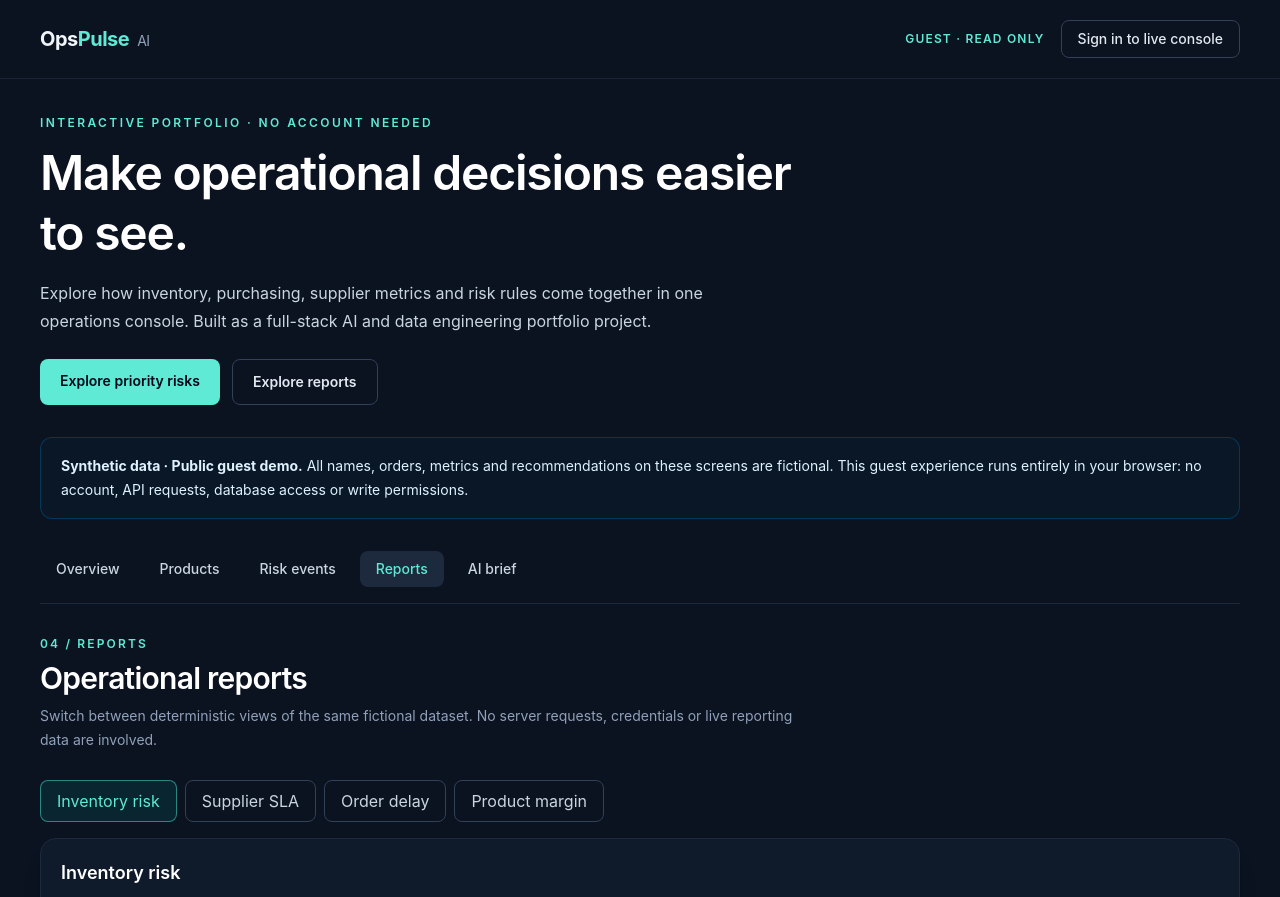
Test: public portfolio demo › switches across four independent synthetic report views
Expected: the heading "Inventory risk" is shown, [61, 862, 180, 883]
Click the tab "Supplier SLA": (250, 801) [185, 780, 316, 822]
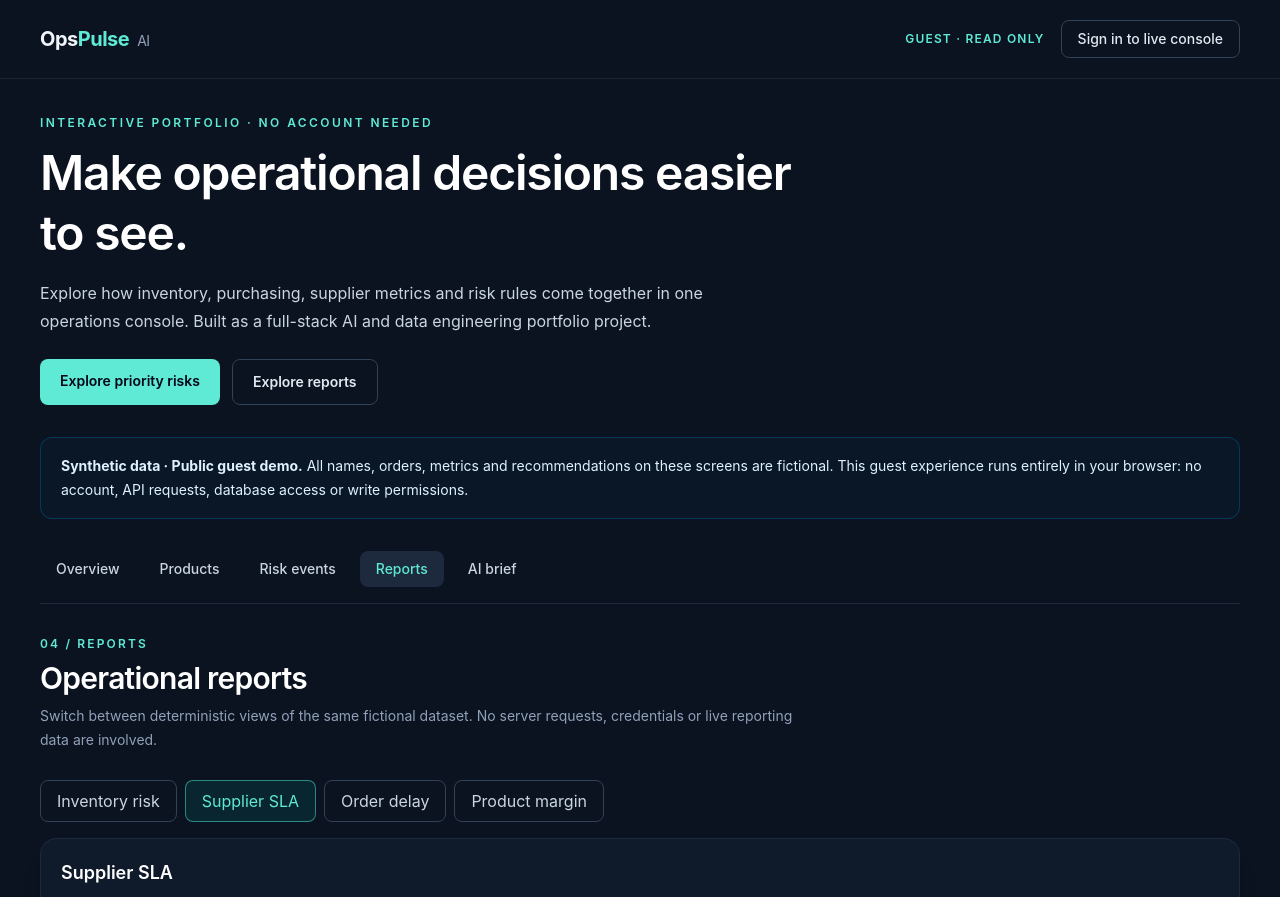
Result: the heading "Supplier SLA" is shown at [61, 862, 173, 883]
Click the tab "Order delay": (385, 801) [324, 780, 446, 822]
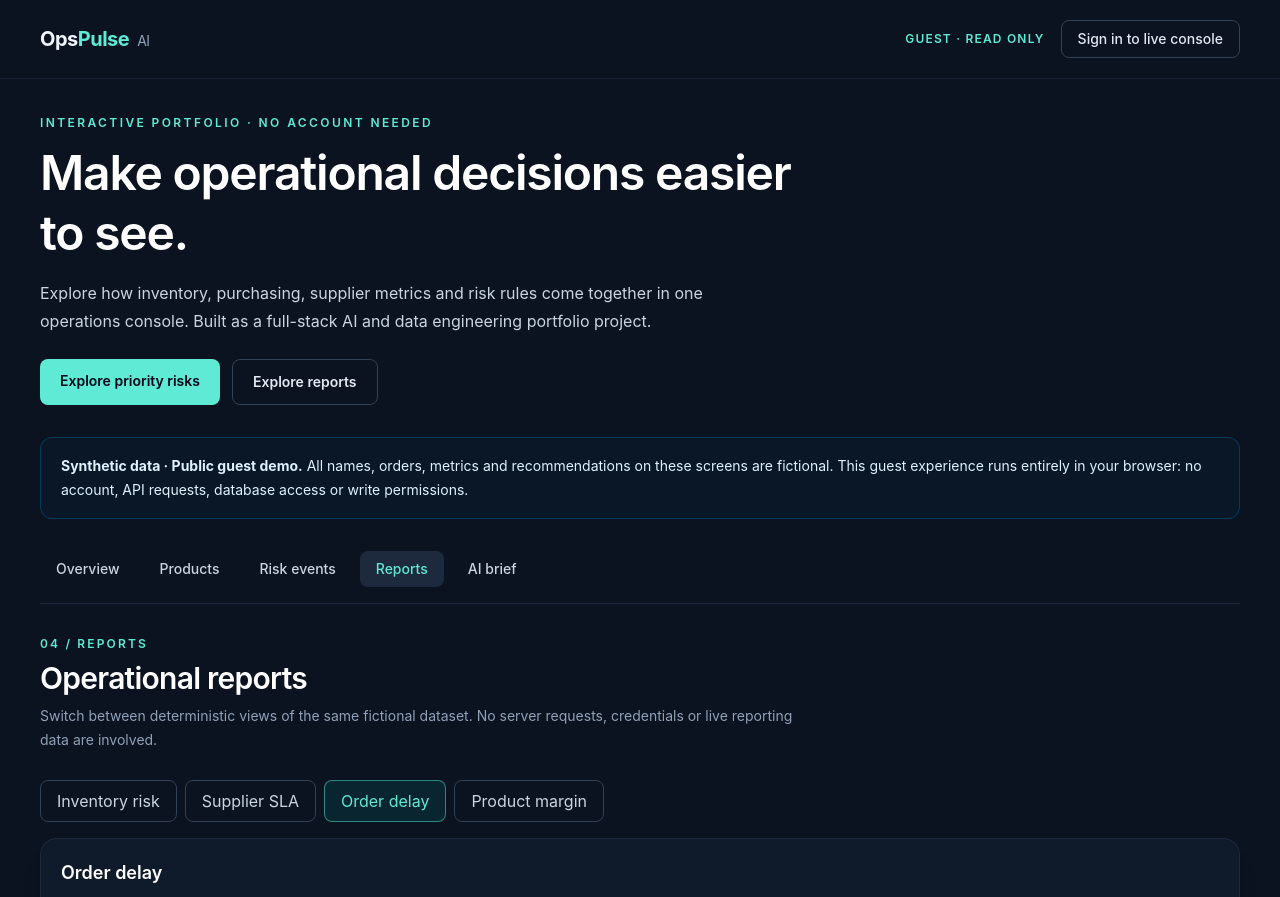
Click the tab "Product margin": (529, 801) [454, 780, 604, 822]
(page scrolled)
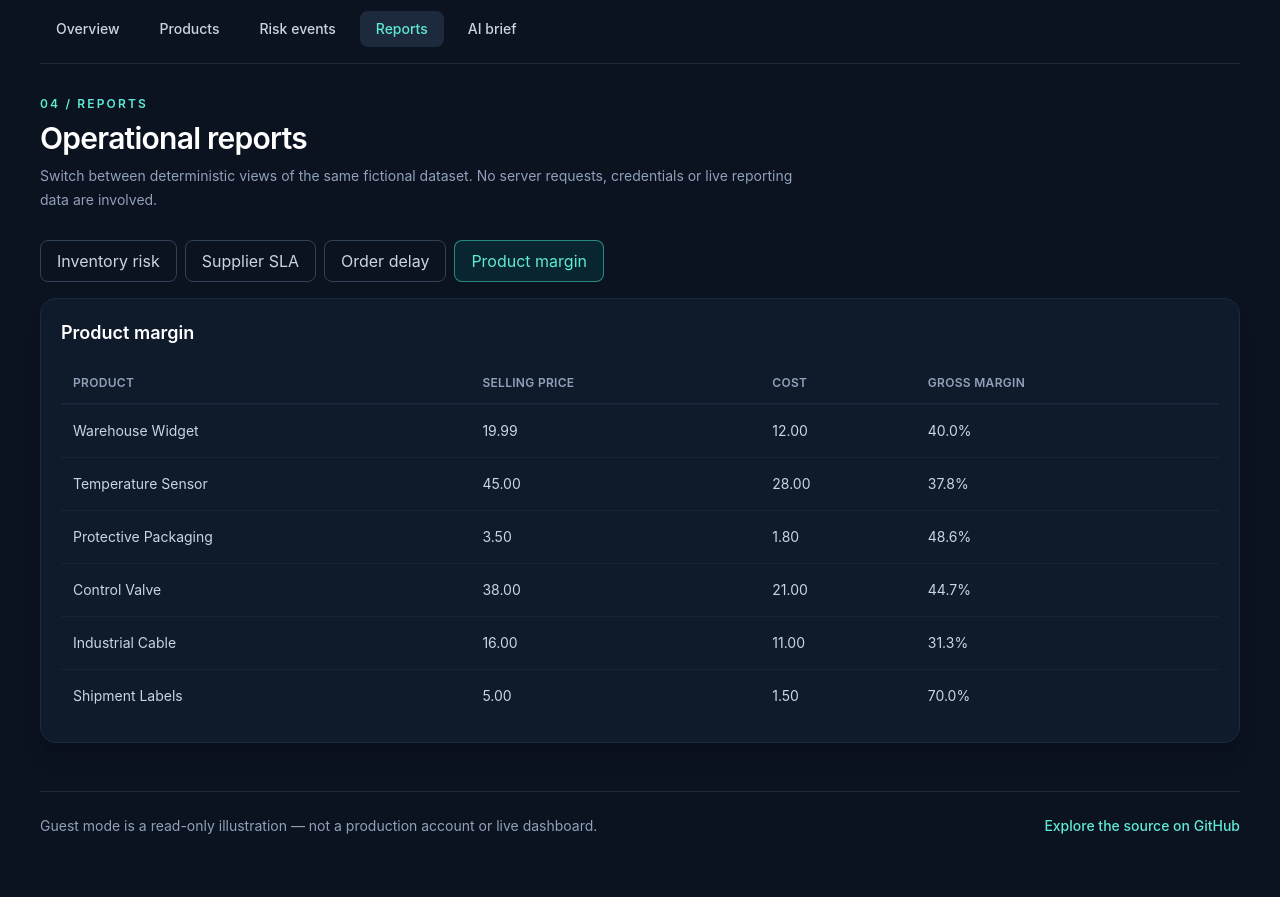
Result: the element named "Sample product margins" is shown at [61, 363, 1219, 722]
